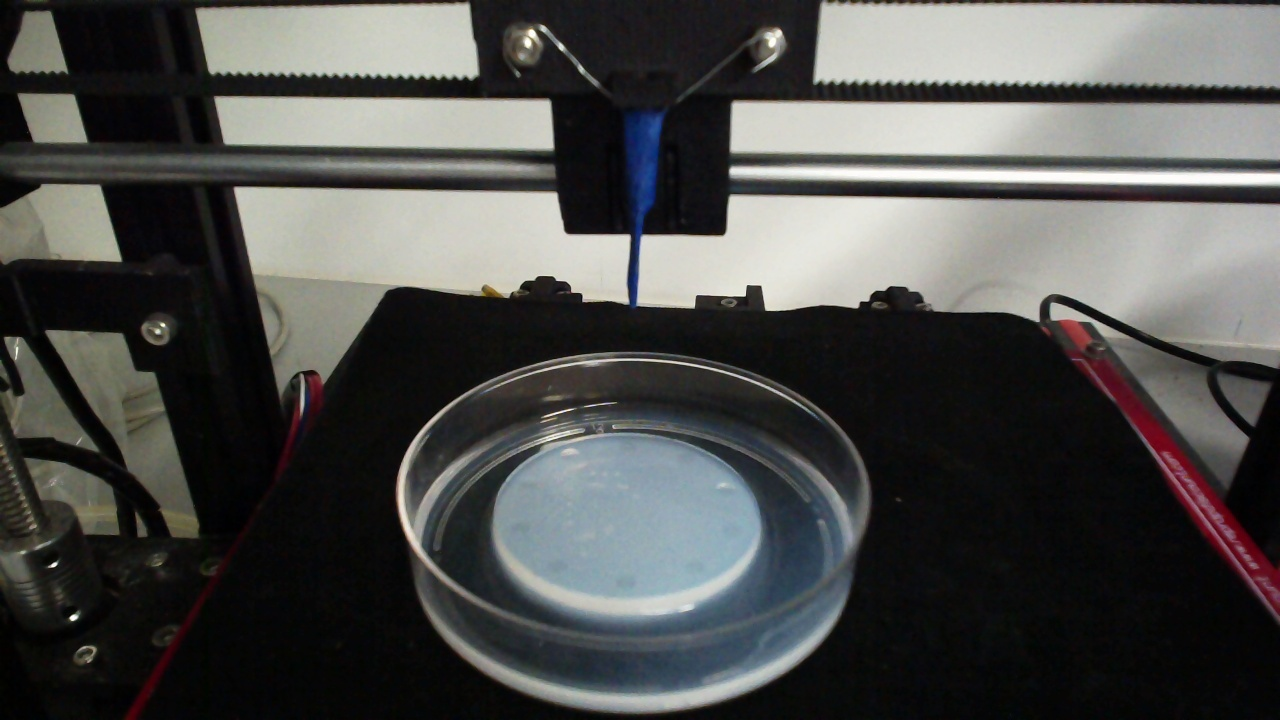groove: (719, 522, 746, 542), (542, 558, 569, 577), (612, 573, 639, 591), (515, 476, 540, 493), (714, 481, 740, 497), (681, 559, 704, 577), (558, 446, 582, 463), (615, 439, 640, 455), (675, 449, 698, 465), (508, 520, 531, 535)
needle: (626, 112, 662, 307)
